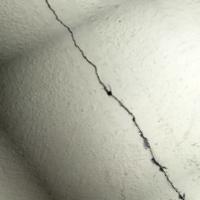crack: (35, 0, 198, 199)
